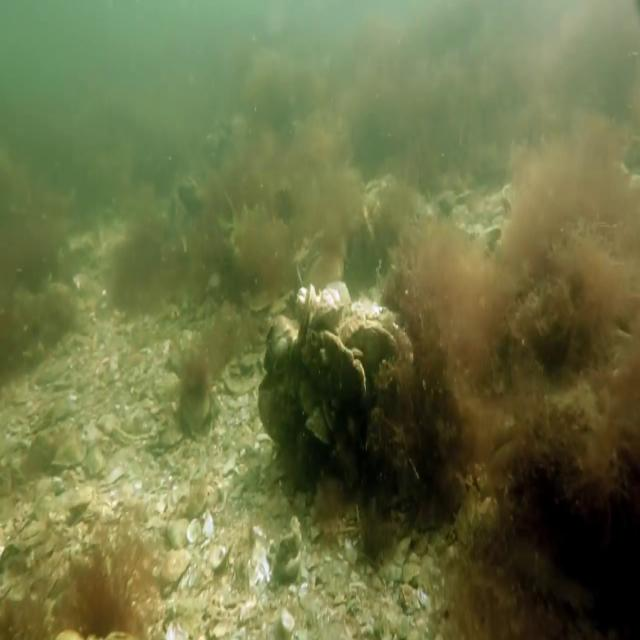Oyster-Closed: (298, 318, 376, 412), (310, 280, 347, 331), (294, 282, 315, 326)
Oyster-Indeterminate: (340, 310, 407, 386), (304, 404, 335, 452)
